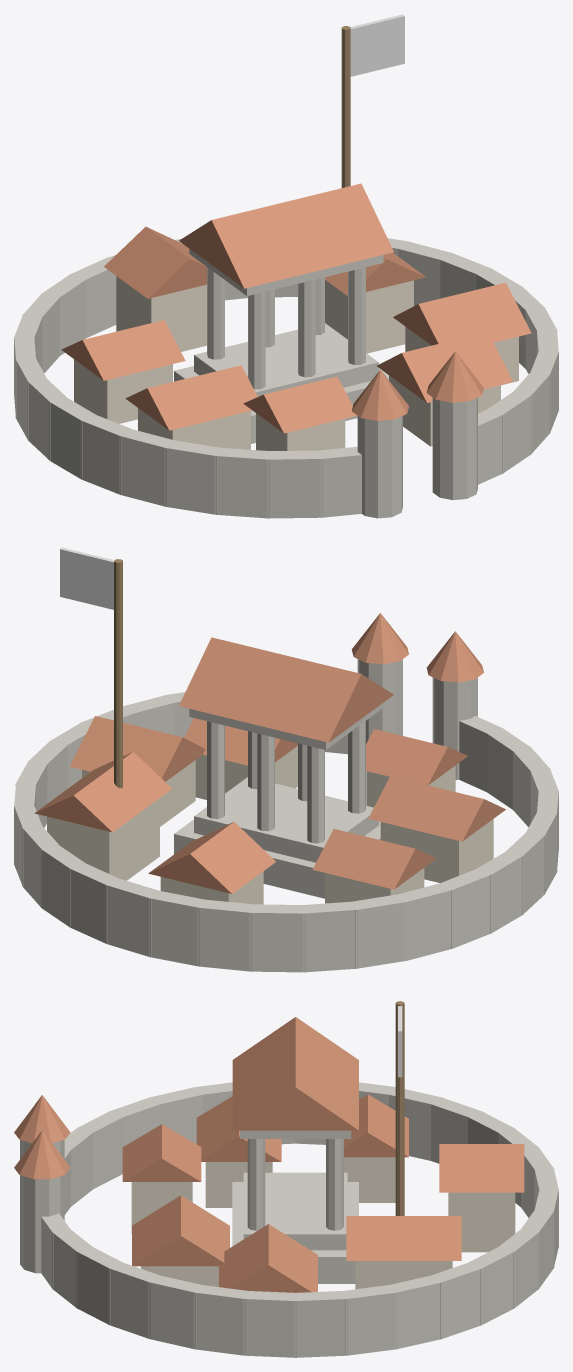
The model's file is civ_city_ancient_town.glb.
3 renders of one model, top to bottom at view 1: azimuth 30°, elevation 25°; view 2: azimuth 150°, elevation 25°; view 3: azimuth 270°, elevation 25°, orthographic. The views are drawn at different scales.
Visible parts, largest first — view 1: civ_city_ancient_town; view 2: civ_city_ancient_town; view 3: civ_city_ancient_town.
Part boxes in pixels (bbox=[...]): civ_city_ancient_town: bbox=[14, 14, 558, 518]; civ_city_ancient_town: bbox=[14, 547, 558, 972]; civ_city_ancient_town: bbox=[14, 1001, 558, 1357].
Bounding box in the file's own units: 3.53 × 2.2 × 3.66.
